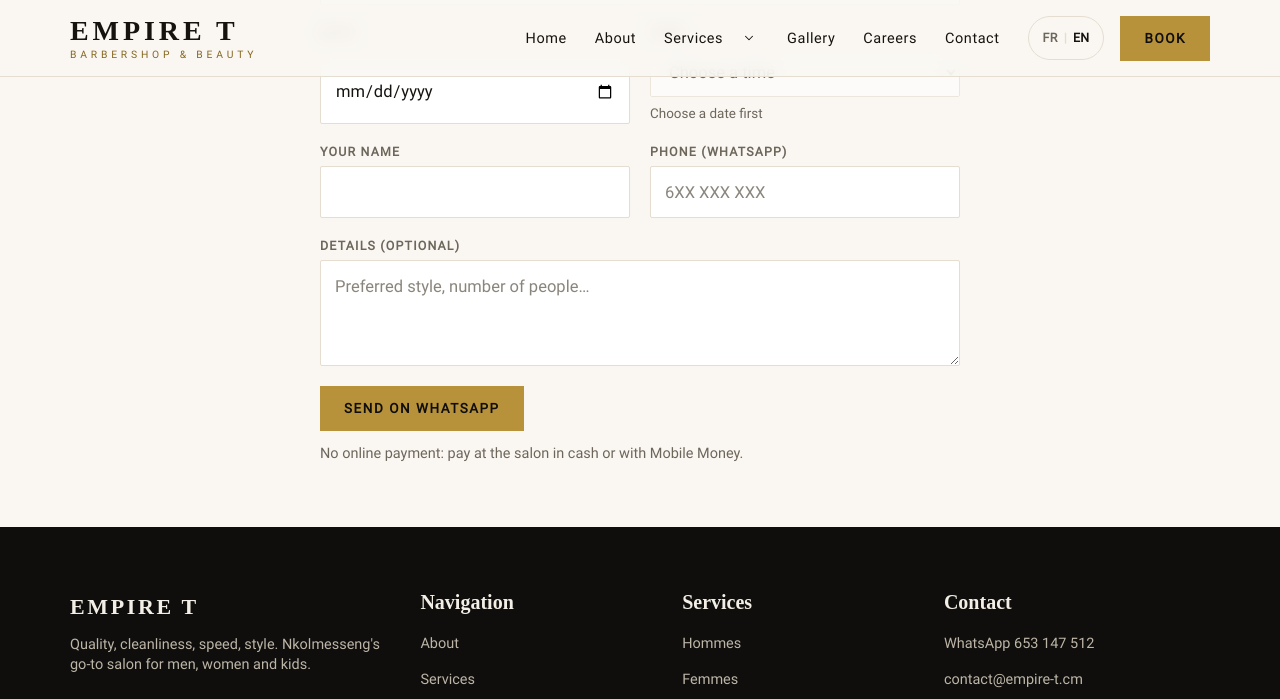
Scenario: booking page › validates in the page's language before sending anything
(page scrolled)
Click the button "Send on WhatsApp". click: {"x": 422, "y": 408}
box: [320,386,524,431]
(page scrolled)
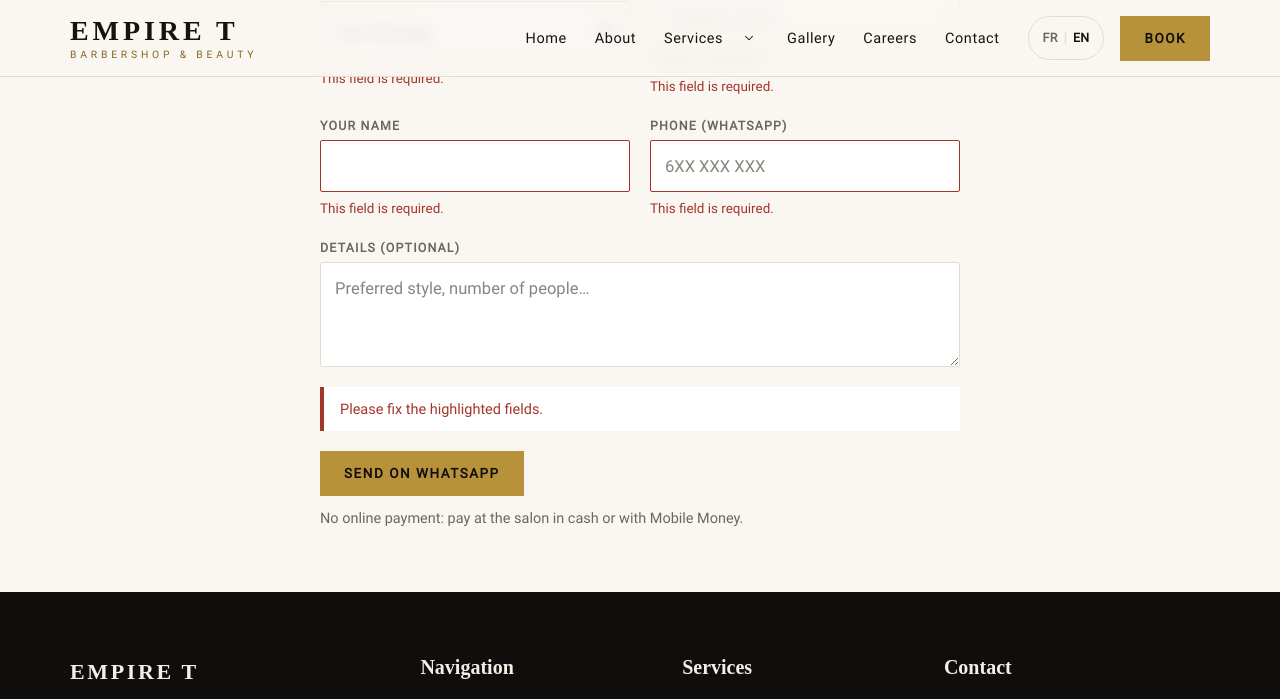
Expected: the text "Please fix the highlighted fields." is shown, [320,387,960,431]
